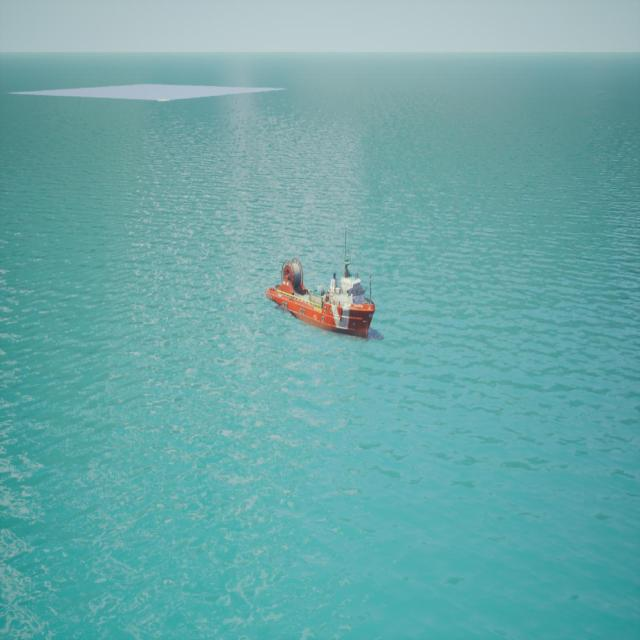tug boat: (267, 251, 380, 342)
